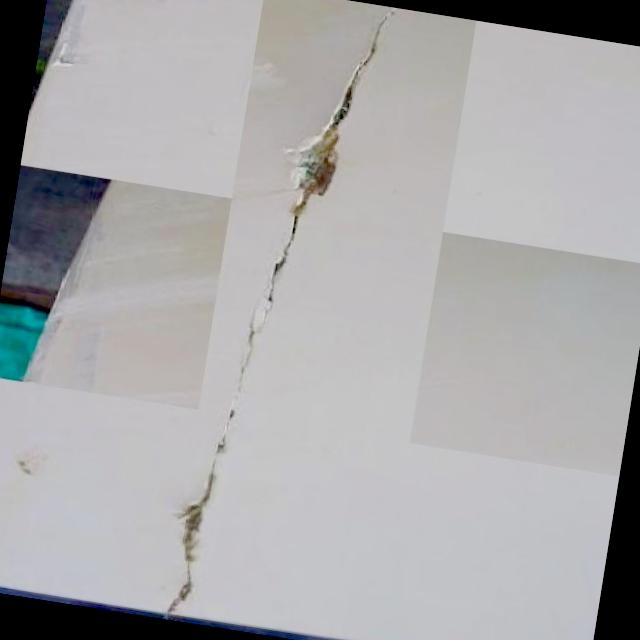crack: (268, 1, 390, 318), (168, 305, 255, 618)
